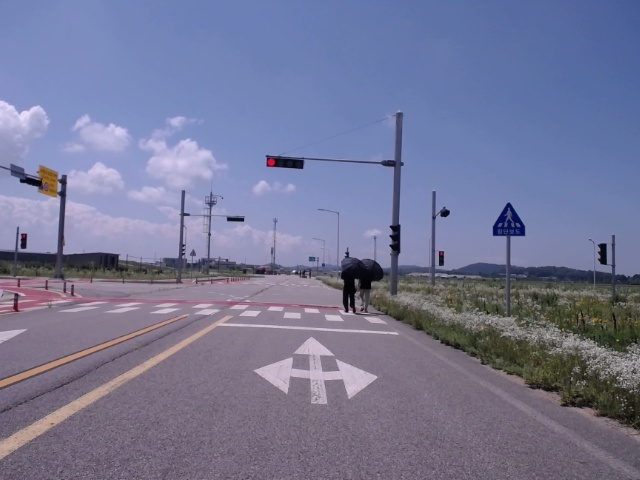red_4: (266, 157, 304, 169)
